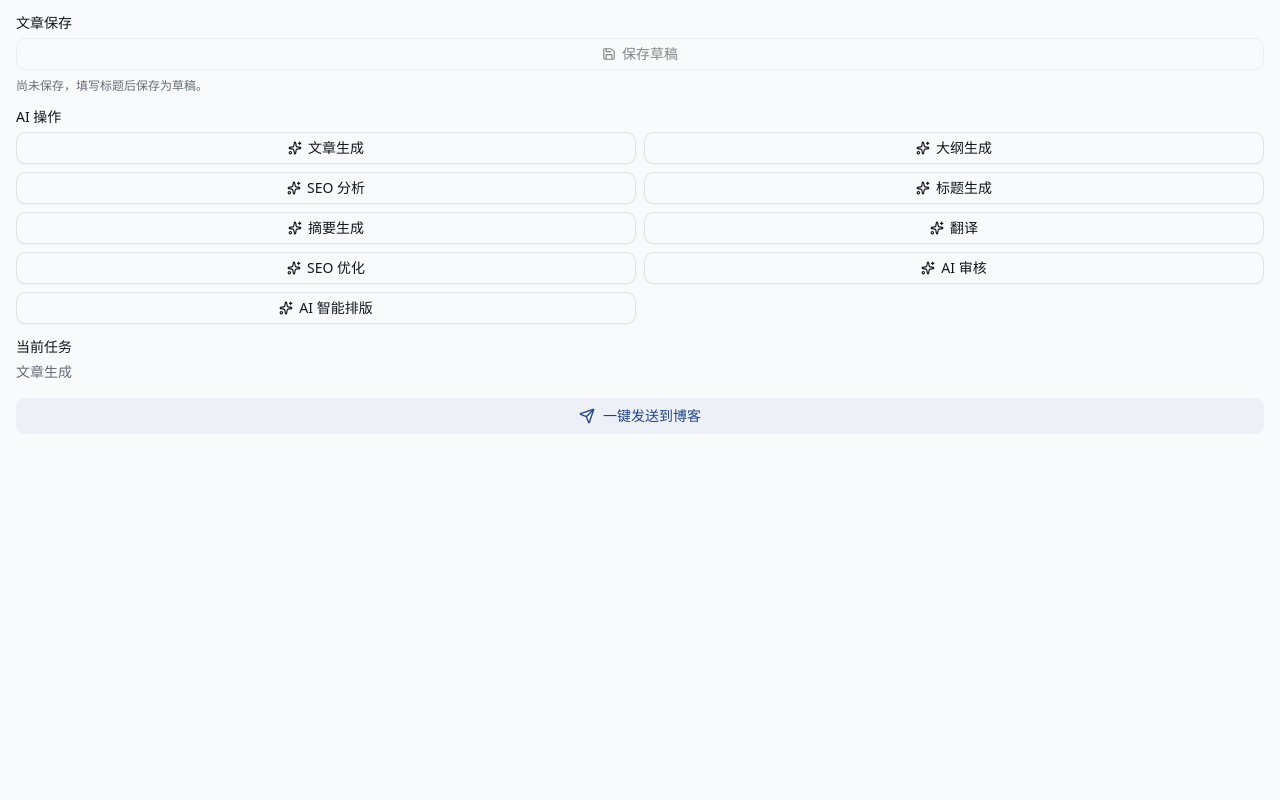
StudioSidebar › 点击 AI 操作弹出模板选择对话框，且只列出匹配任务类型的模板
Expected: the text "AI 操作" is shown, 16,107 -> 61,126
Click the button with test id "article_generate". click: x=326, y=148
box: 16,132 -> 636,164
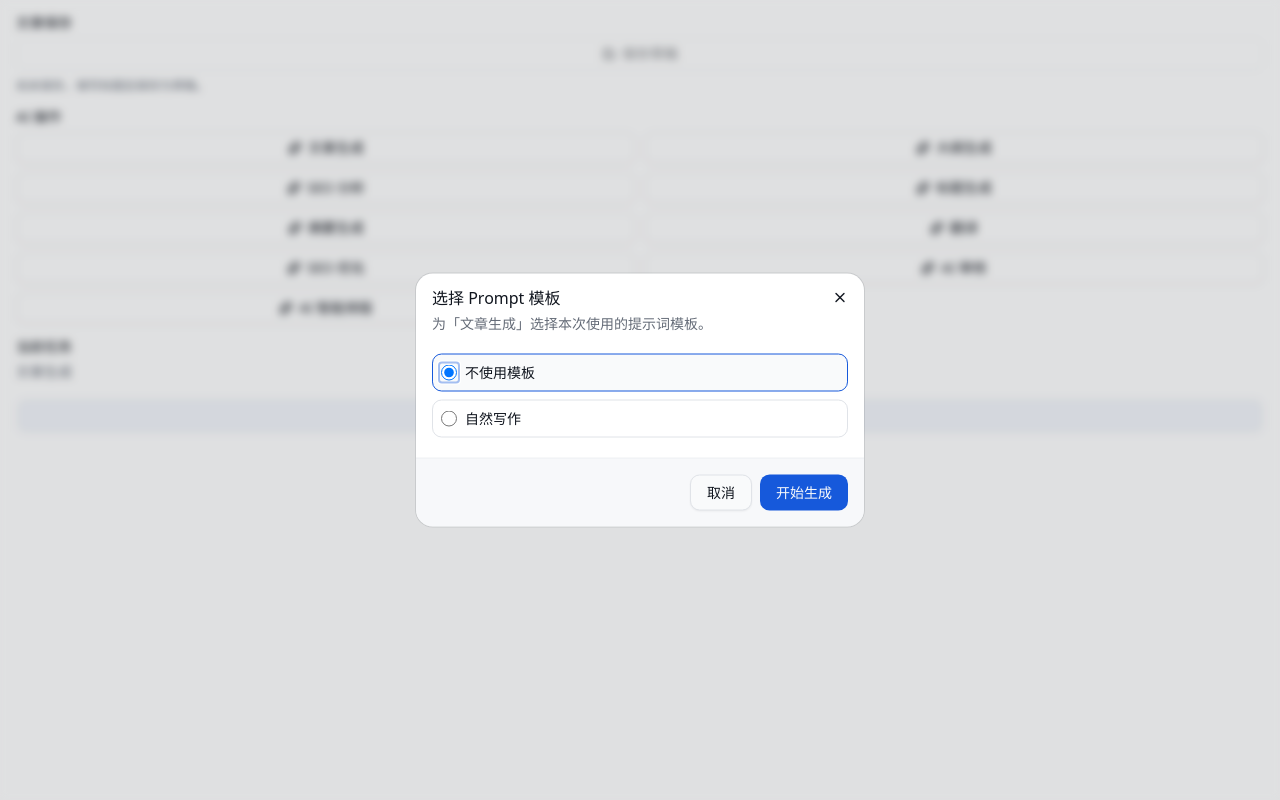
Expected: the heading "选择 Prompt 模板" is shown, 432,286 -> 560,308
Expected: the text "为「文章生成」选择本次使用的提示词模板。" is shown, 432,314 -> 712,332
Expected: the radio button labelled "自然写作" is shown, 441,410 -> 457,426
